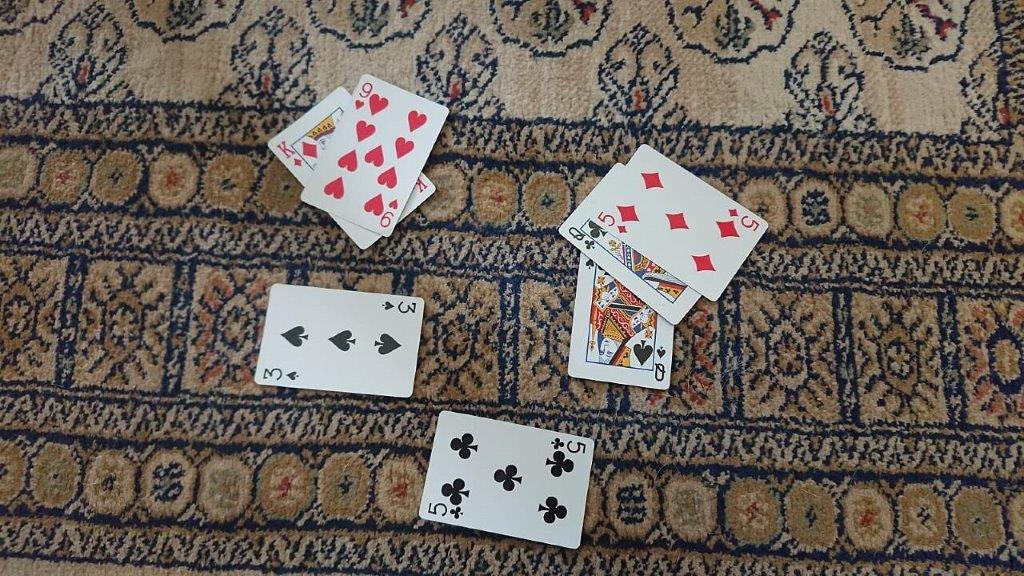5D: (595, 210, 629, 234)
9H: (352, 79, 373, 112)
KD: (274, 137, 304, 168)
QC: (563, 223, 597, 253)
